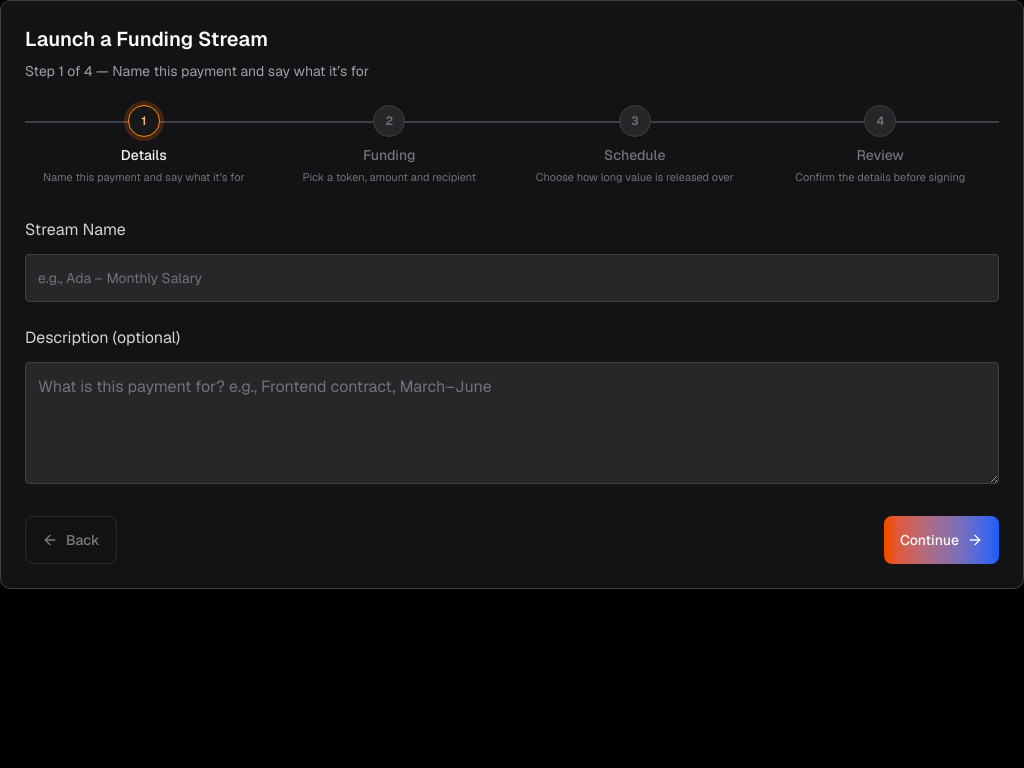
Test: StreamWizard › blocks navigation and surfaces an error when the stream name is missing
Click the button "Continue" at x=941, y=540, box [884,516,999,564]
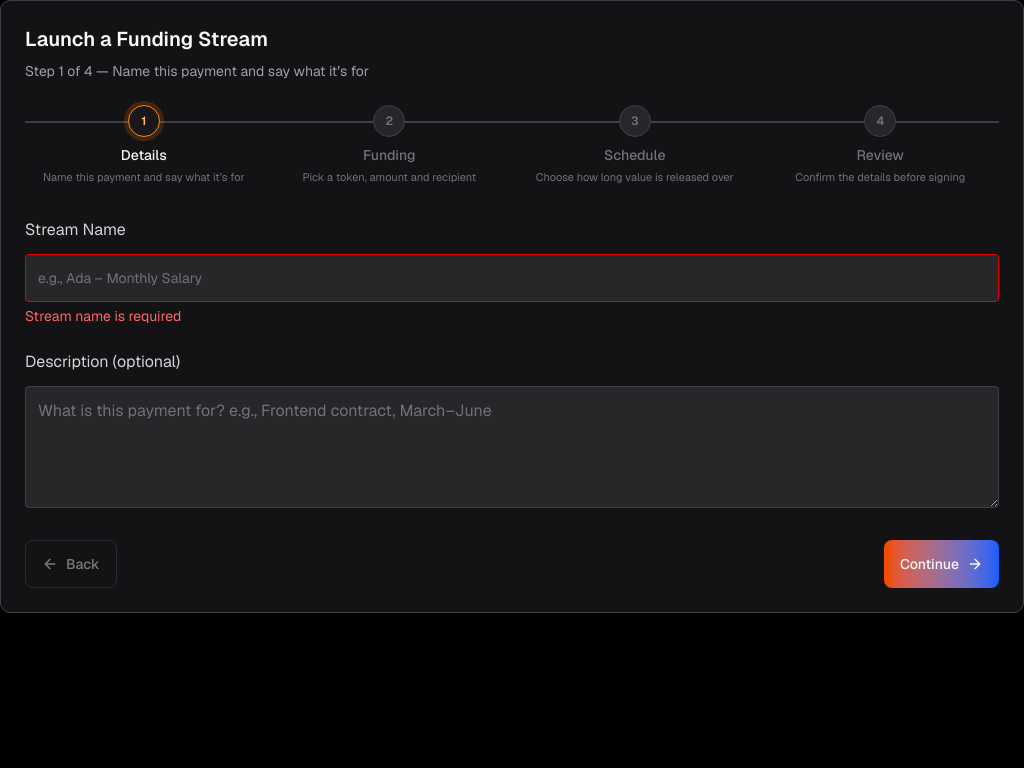
Check: the text "Step 1 of 4 — Name this payment and say what it’s for" is shown, box [25,62,369,80]
Check: the message reads "Stream name is required", box [25,306,181,324]
